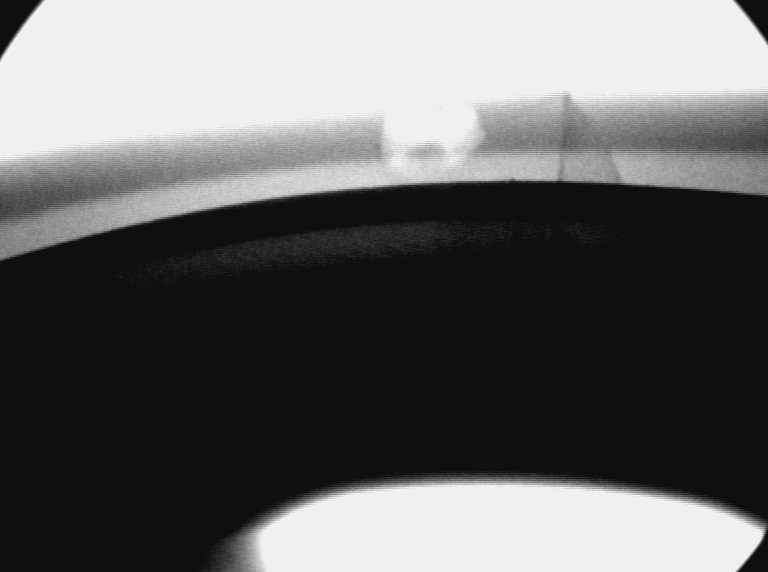defect: (378, 99, 488, 170)
